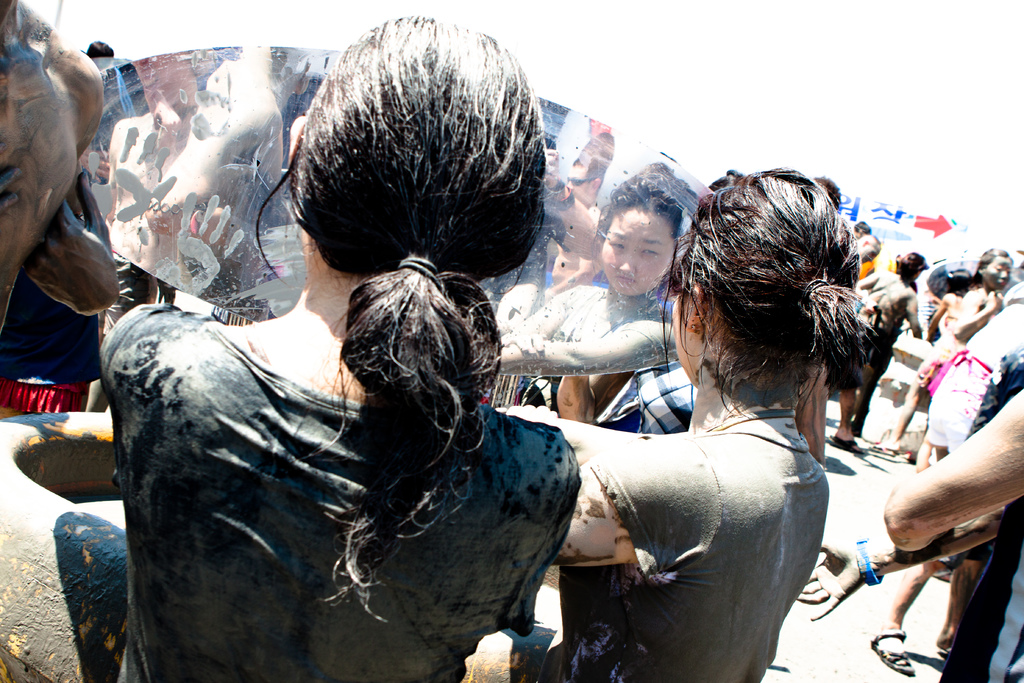Footwear: (871, 628, 913, 678), (825, 436, 866, 458)
